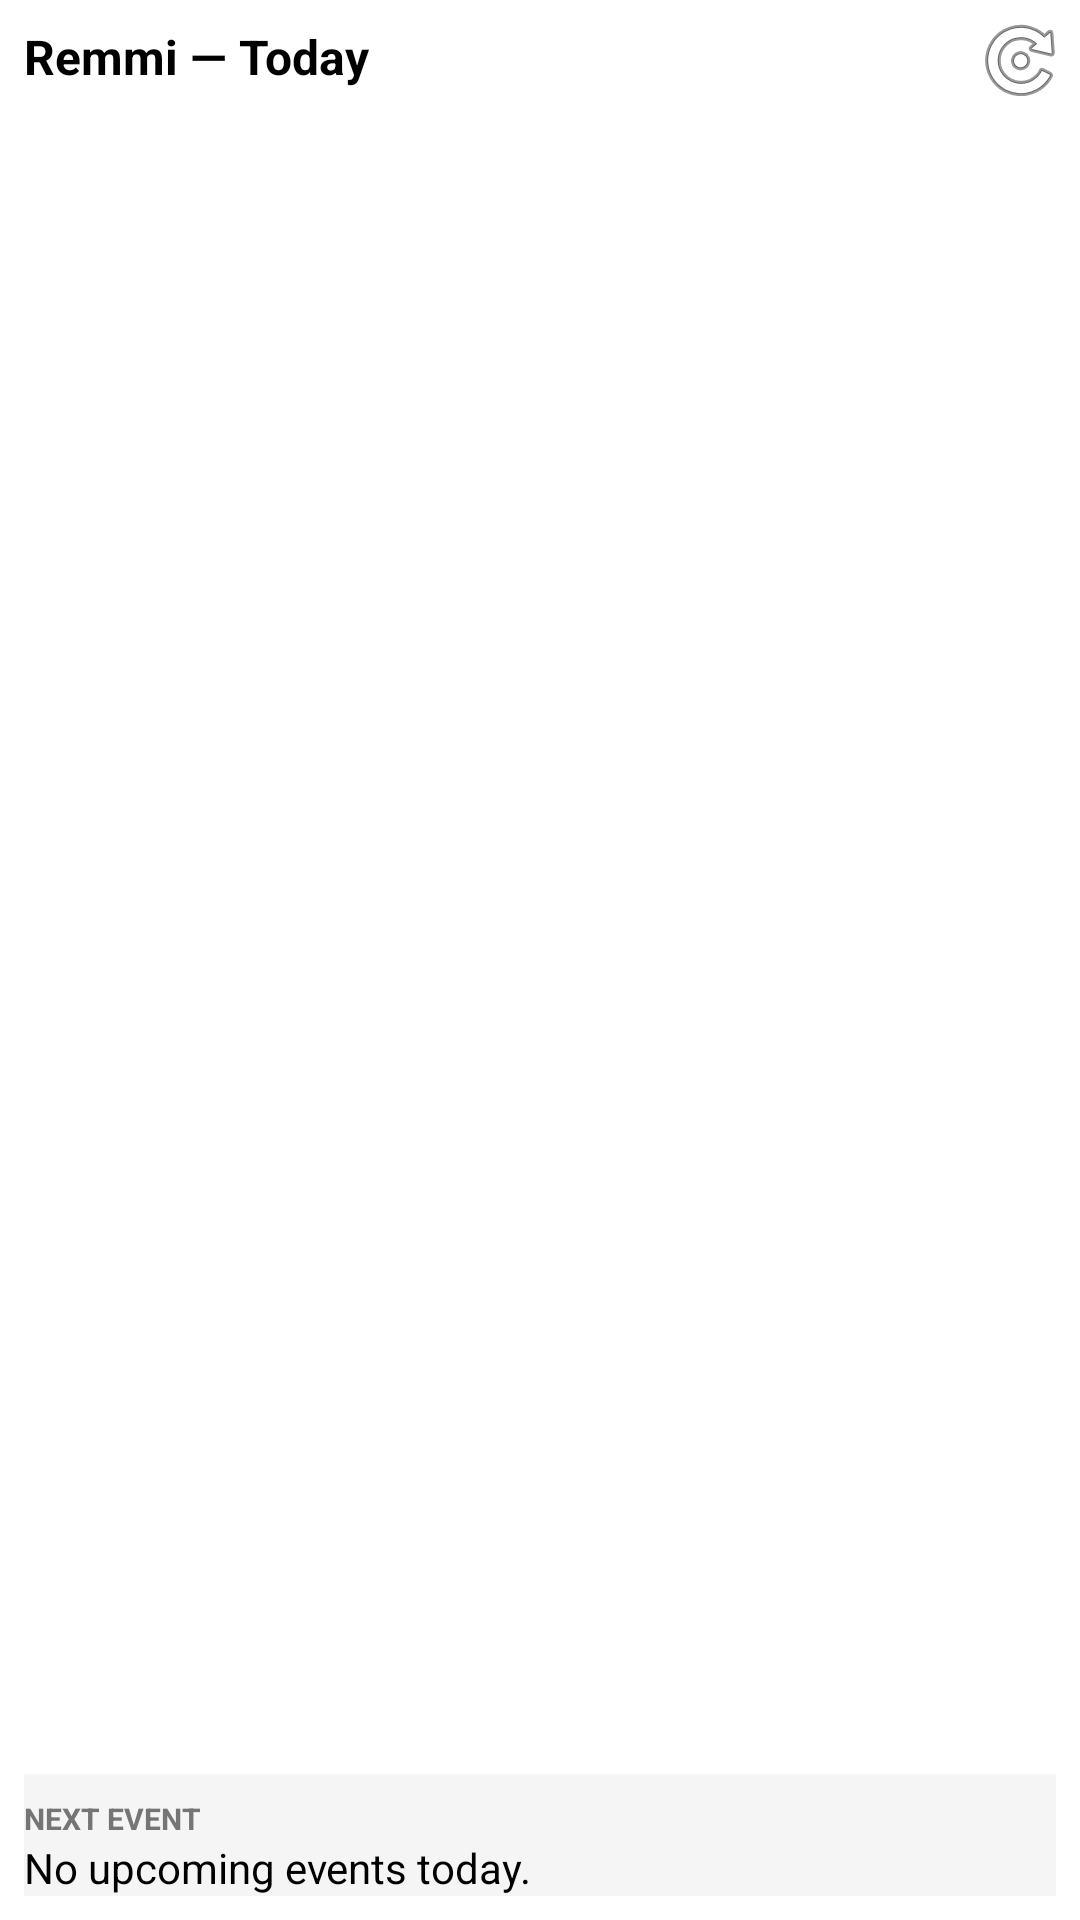

Where icons sit on this 1080px x 1920px app screen, as bbox=(x1, y1, x2, y2):
Refresh: bbox=(985, 25, 1055, 96)
